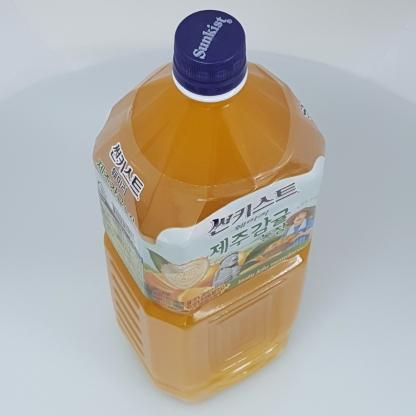-----------2L: (93, 9, 326, 404)
